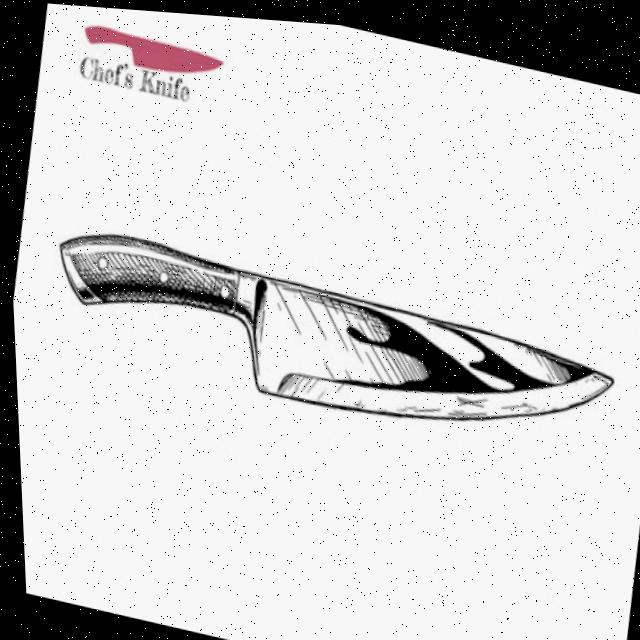knife: (32, 211, 622, 467)
